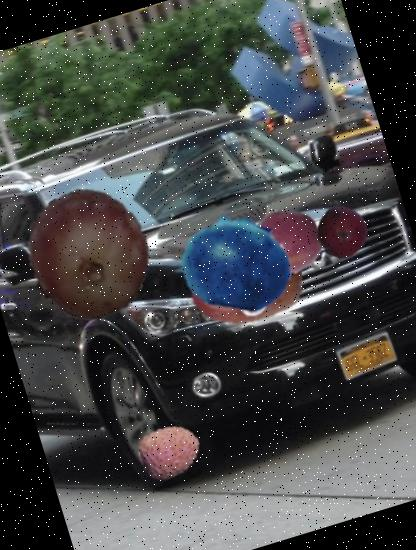Apple: (173, 201, 317, 346)
Cherry: (250, 200, 332, 282)
Grape: (6, 172, 170, 336)
Huckleberry: (168, 192, 308, 332)
Lychee: (132, 414, 208, 490)
Pomegranate: (310, 200, 375, 264)
